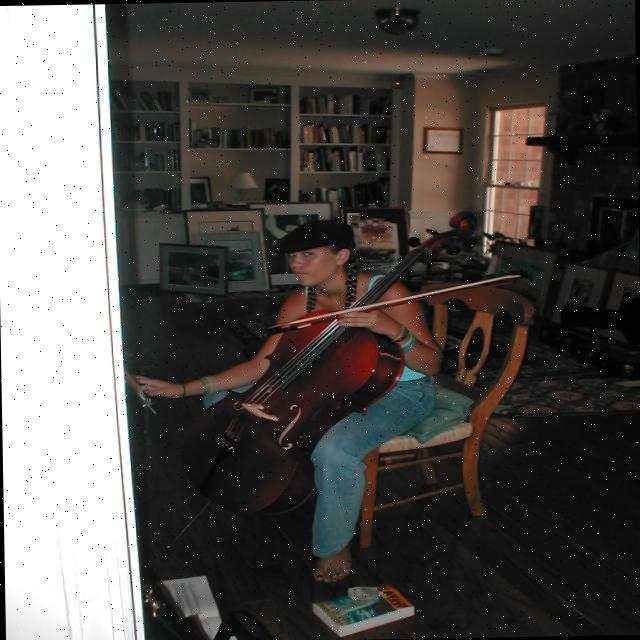cello: (172, 208, 478, 514)
